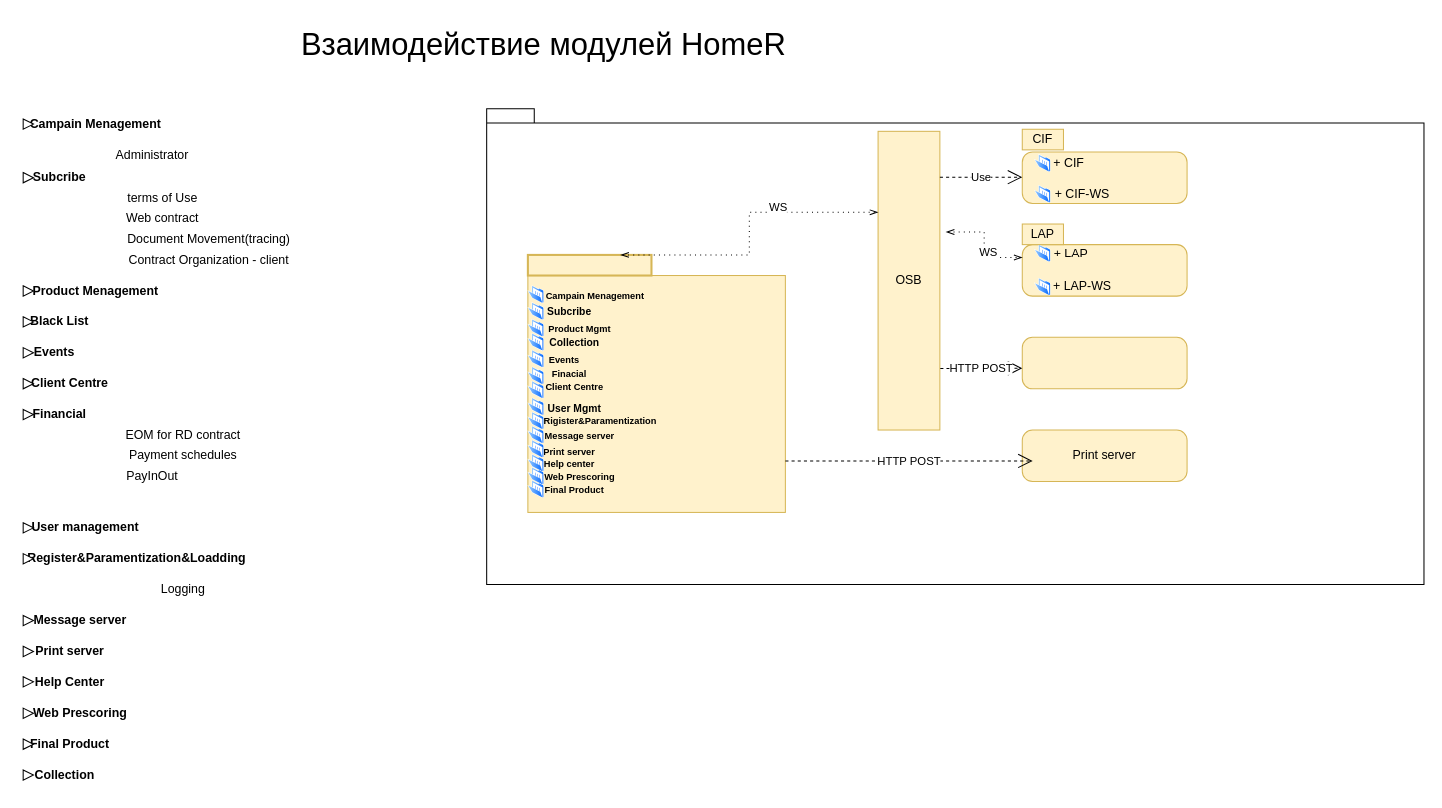
Some shapes in this 1442 by 808 pixel diagram are drawn without their labels. The centre of each missing label's shape, as x and y in pixels:
Cloud Server: the point at 1104,362
Homer: the point at 589,264
